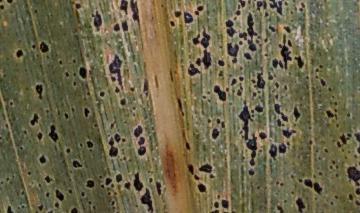tarspot: (109, 53, 124, 89), (239, 99, 251, 141), (278, 33, 292, 69), (141, 188, 154, 213), (129, 1, 140, 27), (247, 12, 257, 39), (347, 167, 360, 186), (213, 84, 227, 101), (200, 26, 211, 47), (268, 1, 284, 15), (92, 11, 102, 32), (202, 48, 212, 69), (246, 134, 258, 151), (48, 124, 59, 142), (227, 42, 239, 57), (134, 172, 143, 191), (296, 197, 306, 213), (188, 64, 201, 76), (177, 98, 185, 115), (257, 71, 265, 88), (198, 164, 213, 173), (39, 41, 50, 53), (30, 113, 40, 126), (143, 77, 150, 95), (295, 55, 304, 69), (155, 179, 162, 197), (269, 144, 277, 159), (283, 129, 296, 138), (36, 84, 43, 100), (184, 12, 193, 24), (248, 39, 257, 51), (313, 182, 322, 194), (293, 106, 300, 121), (120, 1, 128, 14), (134, 124, 142, 137), (197, 183, 207, 193), (211, 128, 220, 139), (227, 27, 236, 38), (280, 111, 289, 122), (339, 133, 348, 144), (55, 189, 64, 200), (79, 67, 87, 79), (238, 31, 248, 40), (278, 143, 287, 153), (304, 178, 313, 188), (193, 34, 201, 45), (73, 160, 83, 168), (110, 146, 118, 156), (254, 105, 264, 113), (122, 20, 129, 31), (16, 49, 24, 58), (39, 155, 47, 164), (268, 24, 276, 33), (275, 103, 281, 115), (283, 25, 292, 33), (188, 163, 194, 175), (243, 53, 253, 60), (138, 147, 146, 155), (87, 180, 95, 188), (256, 1, 263, 10), (221, 199, 228, 208), (84, 108, 90, 118), (138, 137, 145, 145), (259, 132, 267, 139), (105, 177, 112, 185), (6, 206, 14, 213), (114, 23, 120, 32), (109, 137, 115, 146), (115, 133, 121, 142), (225, 20, 234, 26), (354, 132, 360, 141), (277, 204, 283, 213), (70, 207, 79, 213), (273, 57, 278, 67), (86, 140, 93, 147), (239, 1, 246, 8), (326, 110, 333, 117), (248, 170, 255, 177), (121, 97, 127, 105), (196, 57, 202, 65), (196, 5, 204, 11), (185, 143, 191, 151), (236, 89, 242, 97), (320, 78, 326, 86), (348, 193, 354, 201), (116, 174, 122, 182), (125, 182, 131, 190), (268, 71, 273, 80), (209, 209, 220, 213), (37, 132, 43, 139), (175, 11, 182, 17), (218, 60, 225, 66), (231, 78, 237, 85), (250, 159, 256, 166), (300, 1, 306, 8), (213, 201, 219, 208), (45, 176, 51, 183), (115, 86, 120, 94), (221, 120, 226, 128), (262, 1, 267, 9), (275, 80, 280, 88), (279, 59, 283, 69), (278, 117, 282, 127), (355, 187, 360, 195), (75, 3, 81, 9), (130, 86, 136, 92), (194, 10, 200, 16), (218, 70, 224, 76), (54, 202, 60, 208), (64, 112, 69, 119), (234, 10, 241, 15), (251, 151, 256, 158), (39, 204, 44, 211), (9, 101, 14, 107), (100, 91, 105, 97), (111, 76, 116, 82), (110, 122, 115, 128), (170, 21, 175, 27), (346, 111, 351, 117), (323, 148, 329, 153), (318, 171, 323, 177), (294, 4, 298, 11), (337, 141, 341, 148), (65, 72, 70, 77), (207, 118, 212, 123), (239, 130, 244, 135), (239, 76, 244, 81), (232, 58, 237, 63), (238, 40, 243, 45), (299, 7, 304, 12), (335, 123, 340, 128), (194, 174, 199, 179), (98, 174, 103, 179), (59, 59, 63, 65), (232, 16, 238, 20), (264, 11, 268, 17), (264, 51, 268, 57), (252, 91, 256, 97), (284, 84, 288, 90), (288, 40, 292, 46), (334, 114, 338, 120), (239, 82, 243, 88), (209, 174, 215, 178), (81, 191, 85, 197), (47, 210, 55, 213), (318, 155, 322, 161), (57, 109, 61, 115), (7, 1, 14, 4), (357, 147, 360, 154), (223, 210, 230, 213), (5, 123, 9, 128), (67, 148, 71, 153), (71, 107, 75, 112), (87, 91, 91, 96), (226, 87, 230, 92), (239, 66, 244, 70), (256, 38, 260, 43), (237, 4, 241, 9), (251, 79, 256, 83), (275, 94, 279, 99), (319, 64, 324, 68), (347, 133, 352, 137), (309, 140, 313, 145), (218, 45, 223, 49), (251, 108, 255, 113), (299, 178, 303, 183), (275, 180, 280, 184), (355, 200, 360, 204), (107, 192, 112, 196), (111, 200, 115, 205), (21, 190, 25, 195), (17, 205, 21, 210), (348, 149, 352, 154), (308, 125, 312, 130), (314, 195, 318, 200), (160, 3, 164, 8), (123, 156, 127, 161), (217, 118, 220, 124), (231, 210, 237, 213), (149, 177, 152, 183), (32, 45, 36, 49), (34, 9, 38, 13), (46, 109, 50, 113), (73, 81, 77, 85), (73, 59, 77, 63), (94, 123, 98, 127), (122, 138, 126, 142), (132, 113, 136, 117), (203, 95, 207, 99), (305, 76, 309, 80), (315, 68, 319, 72), (334, 108, 338, 112), (334, 102, 338, 106), (290, 174, 294, 178), (335, 173, 339, 177), (330, 201, 334, 205), (228, 73, 232, 77), (242, 156, 246, 160), (101, 184, 105, 188), (6, 177, 10, 181), (38, 183, 42, 187), (114, 191, 118, 195), (134, 203, 138, 207), (1, 5, 4, 10), (24, 130, 27, 135), (287, 141, 290, 146), (285, 1, 288, 6), (251, 113, 254, 118), (217, 194, 220, 199), (336, 164, 339, 169), (46, 192, 49, 197), (69, 188, 72, 193), (93, 205, 96, 210), (111, 182, 114, 187), (107, 186, 110, 191), (4, 74, 7, 78), (80, 143, 83, 147), (89, 149, 93, 152), (265, 38, 268, 42), (248, 1, 252, 4), (291, 11, 294, 15), (329, 88, 332, 92), (258, 90, 261, 94), (280, 183, 284, 186), (330, 165, 333, 169), (332, 161, 336, 164), (335, 195, 338, 199), (257, 186, 261, 189), (284, 199, 287, 203), (207, 92, 211, 95), (208, 99, 212, 102), (88, 200, 91, 204), (345, 155, 348, 159), (354, 154, 357, 158), (291, 1, 296, 3), (283, 121, 285, 126), (20, 147, 23, 150), (28, 172, 31, 175), (74, 73, 77, 76), (133, 107, 136, 110), (316, 76, 319, 79), (254, 85, 257, 88), (1, 181, 4, 184), (22, 205, 25, 208), (292, 191, 294, 194), (1, 1, 3, 3), (1, 137, 2, 140)
